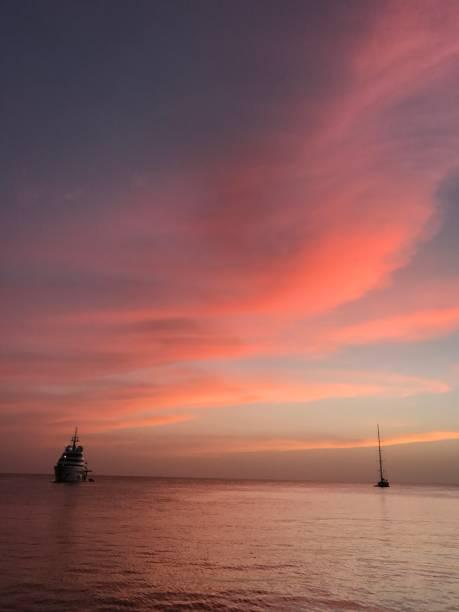MIL_Ship: (54, 425, 93, 485)
